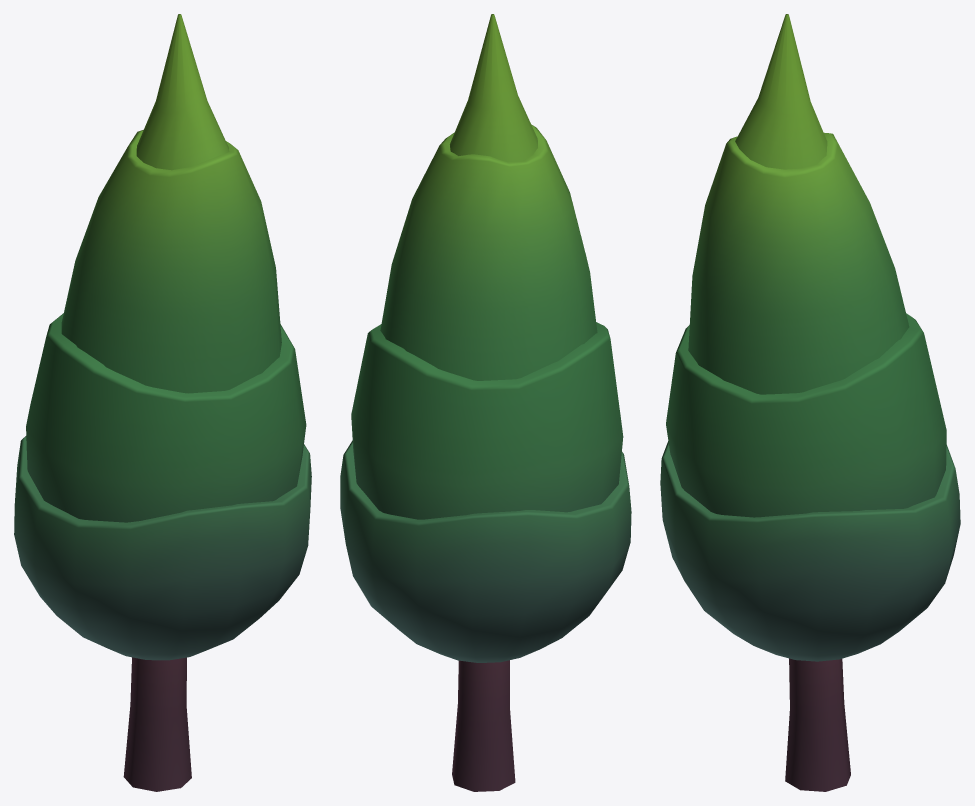
File: tree_pack_01.glb
3 renders of one model, left to right at view 1: azimuth 30°, elevation 25°; view 2: azimuth 150°, elevation 25°; view 3: azimuth 270°, elevation 25°, orthographic. The views are drawn at different scales.
Parts seen in each view (by area): view 1: Tree.001; view 2: Tree.001; view 3: Tree.001.
Boxes of the visible parts, box(x1,y1,x2,y2) form: Tree.001: box(14, 14, 311, 791); Tree.001: box(340, 14, 631, 791); Tree.001: box(660, 14, 960, 791).
Bounding box in the file's own units: 2.02 × 5.71 × 2.03.
1 material, 1 textured.
